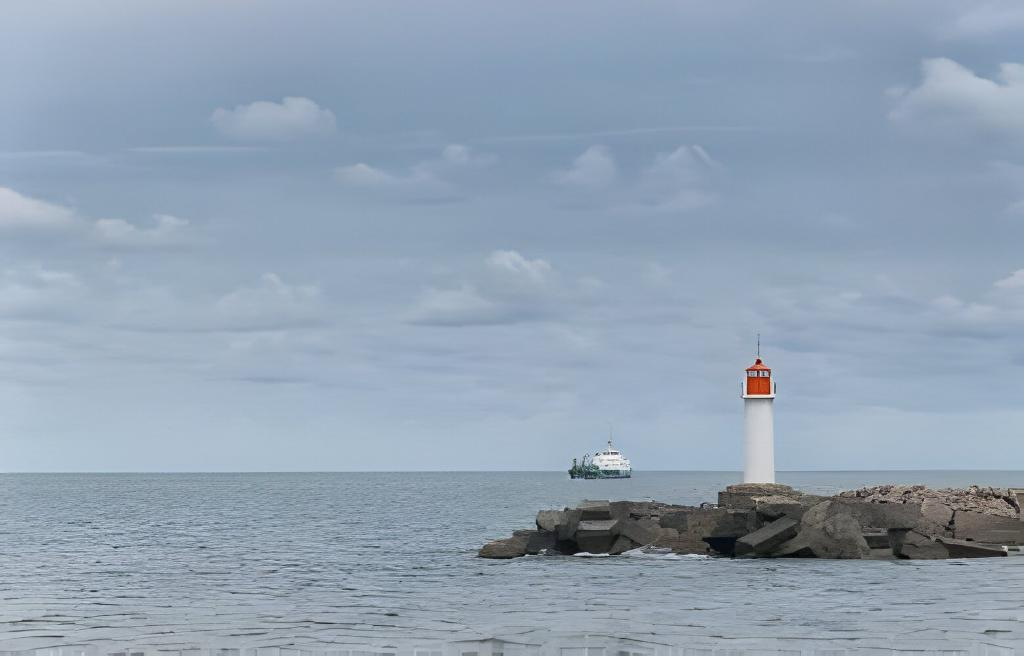PassengerShip: (564, 438, 640, 485)
